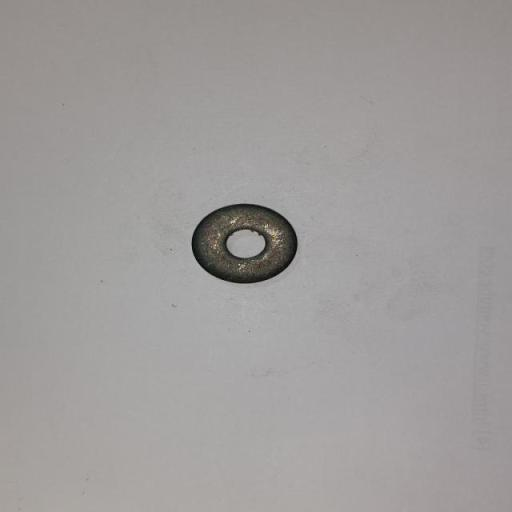Washer: (190, 202, 299, 285)
